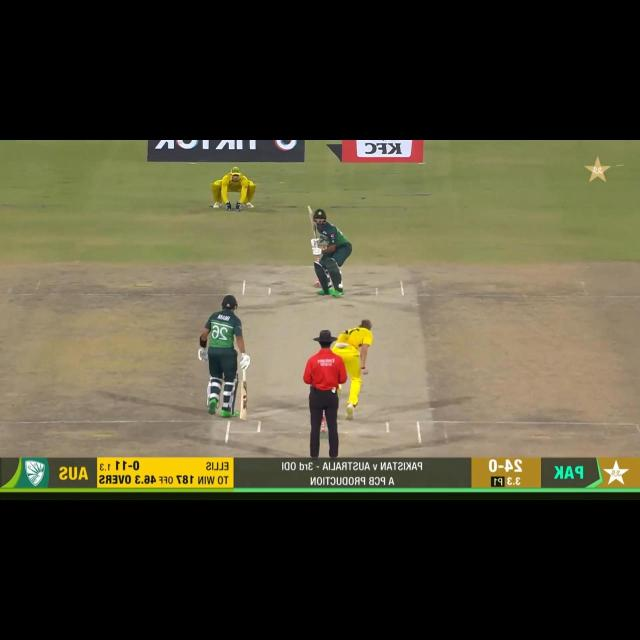bat: (308, 207, 320, 240), (240, 384, 249, 422)
toe: (239, 416, 248, 423), (306, 204, 313, 212)
